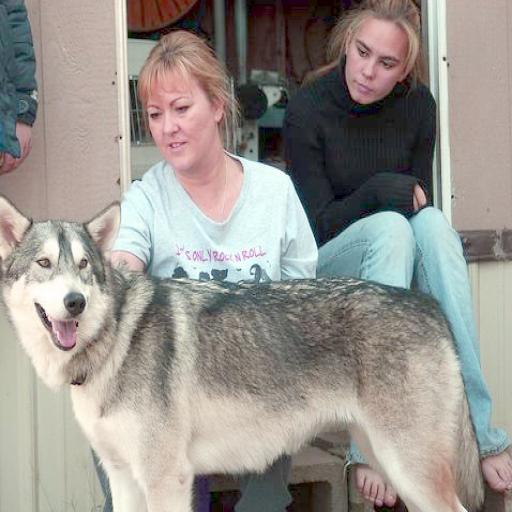dog_face: (0, 191, 129, 360)
